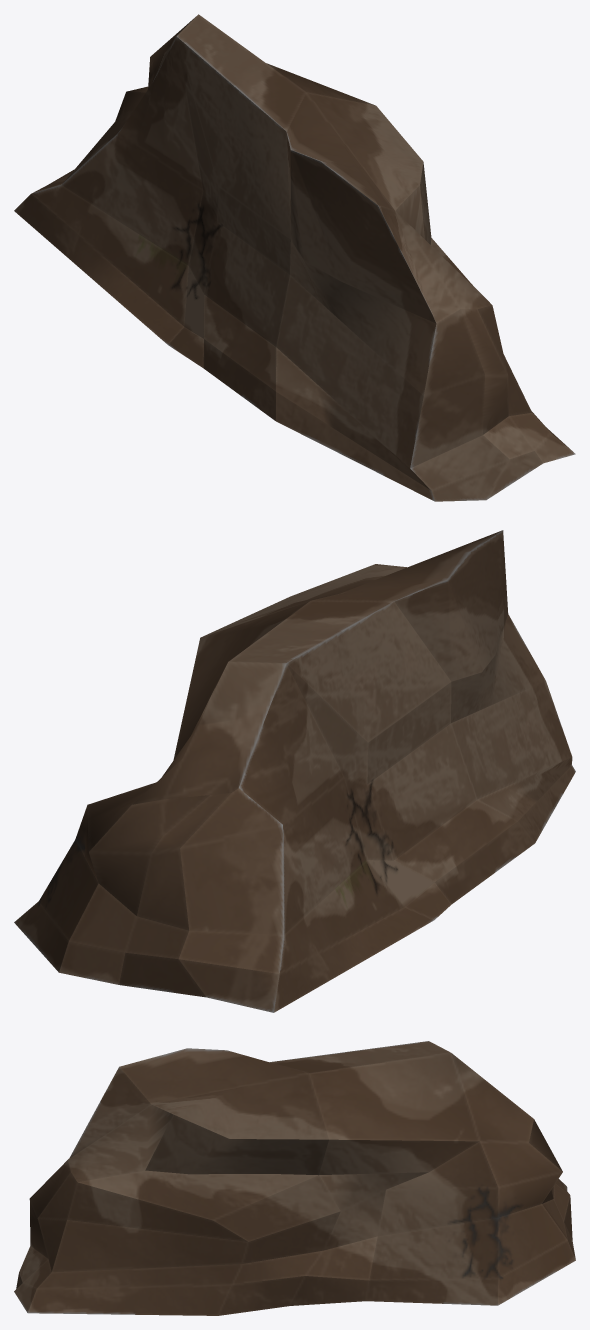
File: Mountain.fbx
3 views of the same model, one above another, from view 1: azimuth 30°, elevation 25°; view 2: azimuth 150°, elevation 25°; view 3: azimuth 270°, elevation 25° (orthographic). The views are drawn at different scales.
Parts seen in each view (by area): view 1: Mountain2; view 2: Mountain2; view 3: Mountain2.
Boxes of the visible parts, <box> form: Mountain2: <box>14,14,575,501</box>; Mountain2: <box>14,530,575,1012</box>; Mountain2: <box>14,1041,575,1315</box>.
Bounding box in the file's own units: 2837 × 2934 × 6474.
